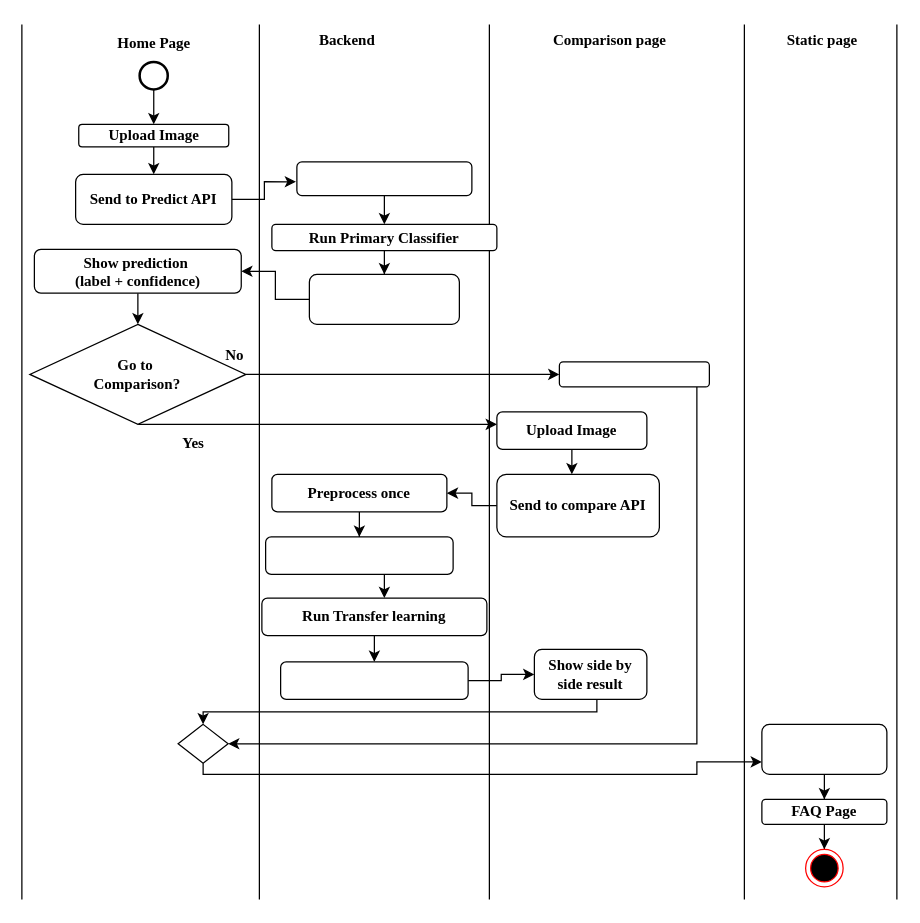
This 920x923 diagram has some shape labels left out. Each missing label, with the box of its shape:
Contact Us Page: (761, 723, 887, 774)
Process Image: (296, 161, 472, 196)
return both result: (279, 661, 468, 699)
Return Prediction: (308, 273, 459, 324)
Run Custom CNN: (264, 536, 453, 574)
Stay on home: (558, 361, 709, 387)
